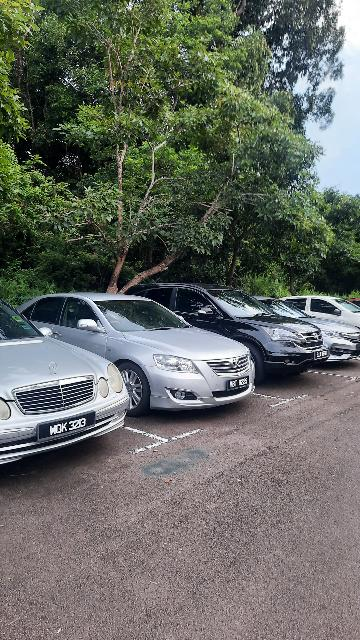License_Plate: (37, 411, 99, 443), (228, 376, 253, 392), (315, 348, 335, 362)
car: (17, 289, 257, 418), (2, 294, 133, 470), (129, 284, 332, 385), (247, 294, 360, 365)
